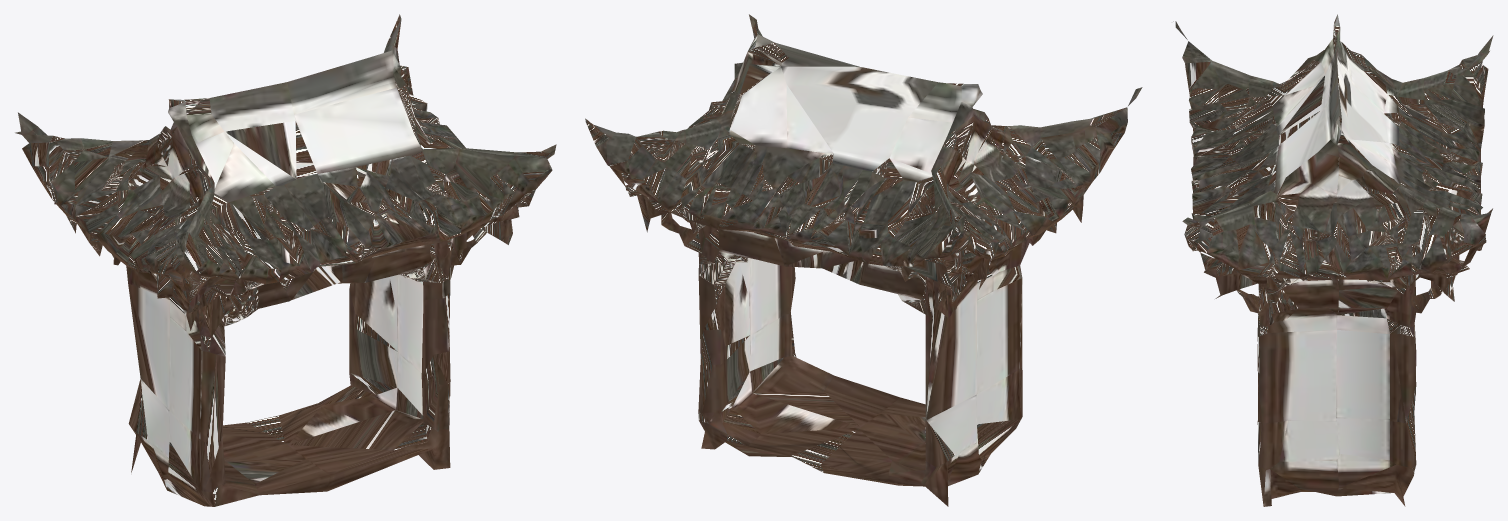
Rendered from lib_wood_pavilion.far.glb.
The picture shows the model from 3 angles, left to right: view 1: azimuth 30°, elevation 25°; view 2: azimuth 150°, elevation 25°; view 3: azimuth 270°, elevation 25°; orthographic projection. The views are drawn at different scales.
Size of the model in its own units: 1.87 by 1.81 by 1.39.
Materials: 1 (1 with a texture image).
